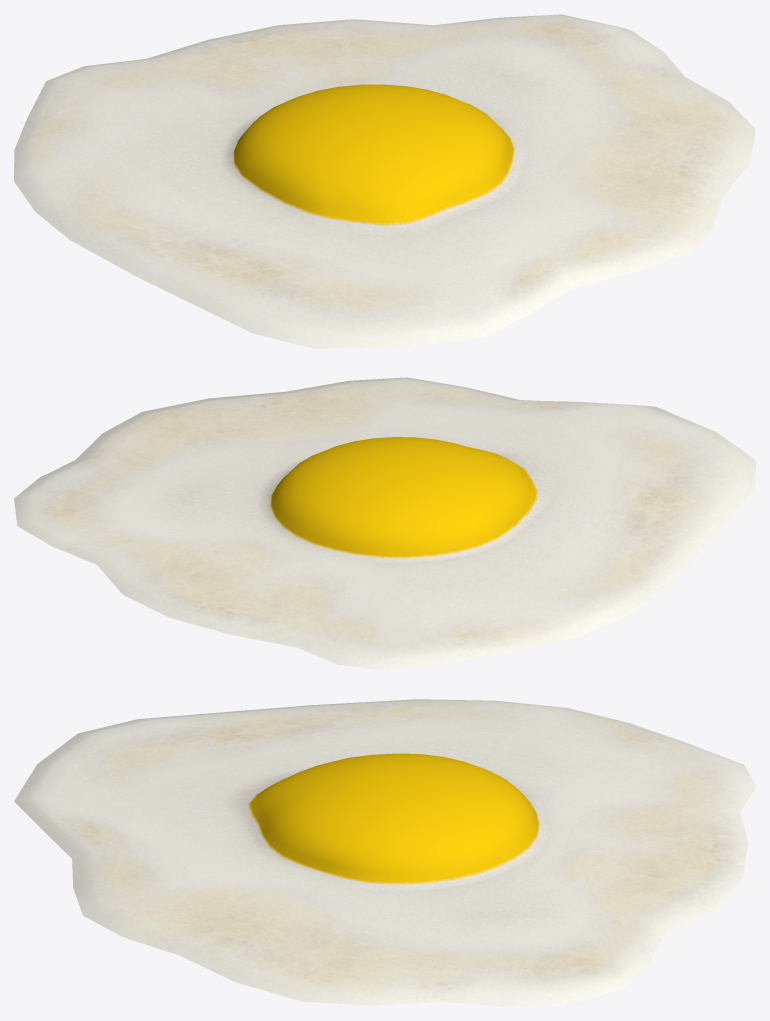
Rendered from Egg_Cracked_2.obj.
3 views of the same model, one above another, from view 1: azimuth 30°, elevation 25°; view 2: azimuth 150°, elevation 25°; view 3: azimuth 270°, elevation 25° (orthographic). The views are drawn at different scales.
Visible parts, largest first — view 1: fried_egg_2; view 2: fried_egg_2; view 3: fried_egg_2.
Part boxes in pixels (box(x1,y1,x2,y2)): fried_egg_2: box(14, 14, 755, 348); fried_egg_2: box(14, 377, 755, 670); fried_egg_2: box(14, 699, 755, 1006).
Size of the model in its own units: 0.1172 by 0.0107 by 0.1196.
